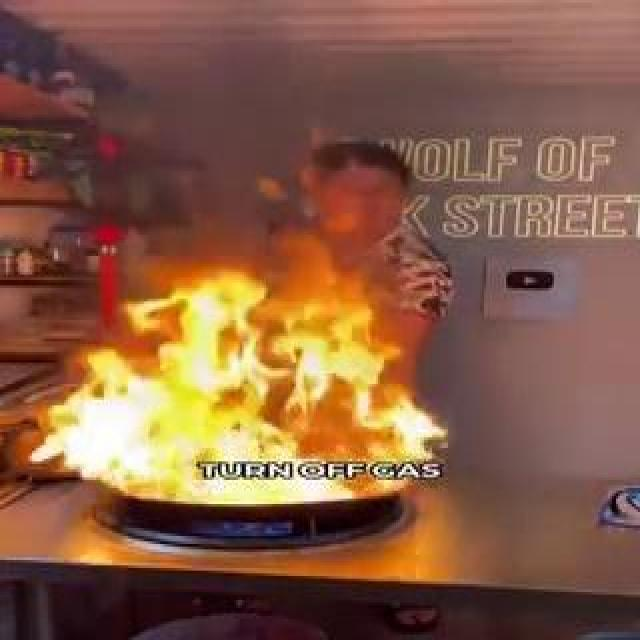Fire: (280, 286, 364, 448)
